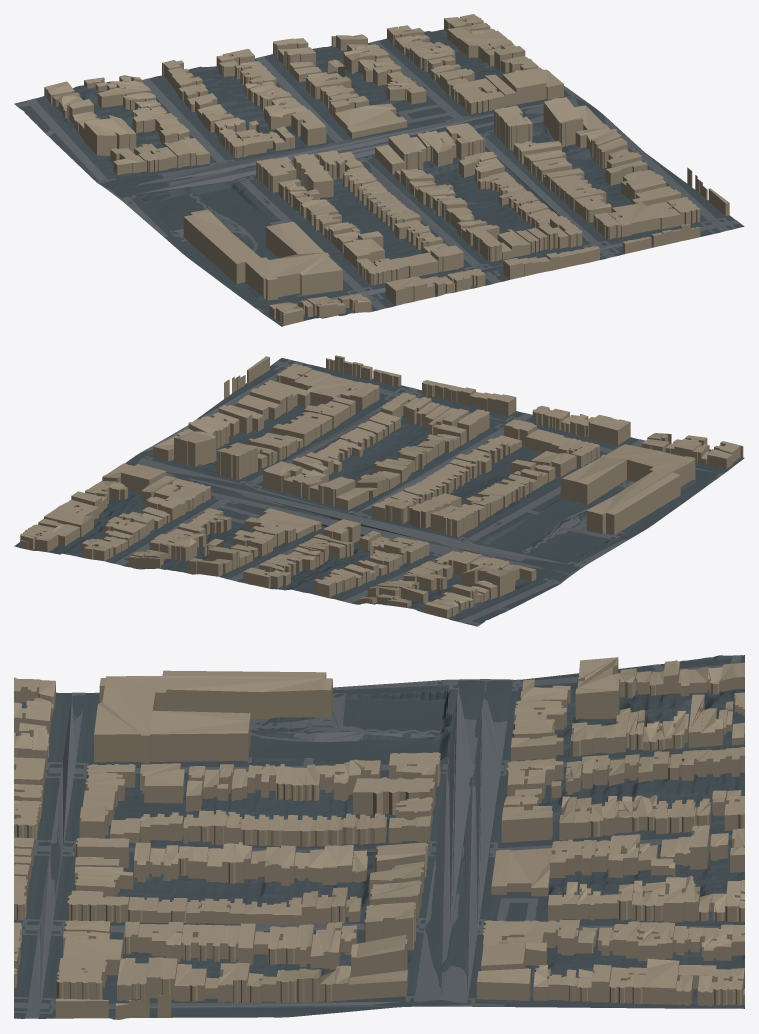
Rendered from epsg26910-1419-10889.lod0.glb.
3 views of the same model, one above another, from view 1: azimuth 30°, elevation 25°; view 2: azimuth 150°, elevation 25°; view 3: azimuth 270°, elevation 25° (orthographic). The views are drawn at different scales.
Visible parts, largest first — view 1: epsg26910-1419-10889-lod0; view 2: epsg26910-1419-10889-lod0; view 3: epsg26910-1419-10889-lod0.
Part boxes in pixels (left/top/right/bottom): epsg26910-1419-10889-lod0: left=14, top=14, right=744, bottom=326; epsg26910-1419-10889-lod0: left=14, top=355, right=744, bottom=626; epsg26910-1419-10889-lod0: left=14, top=655, right=744, bottom=1019.
Size of the model in its own units: 384 by 42.4 by 384.
